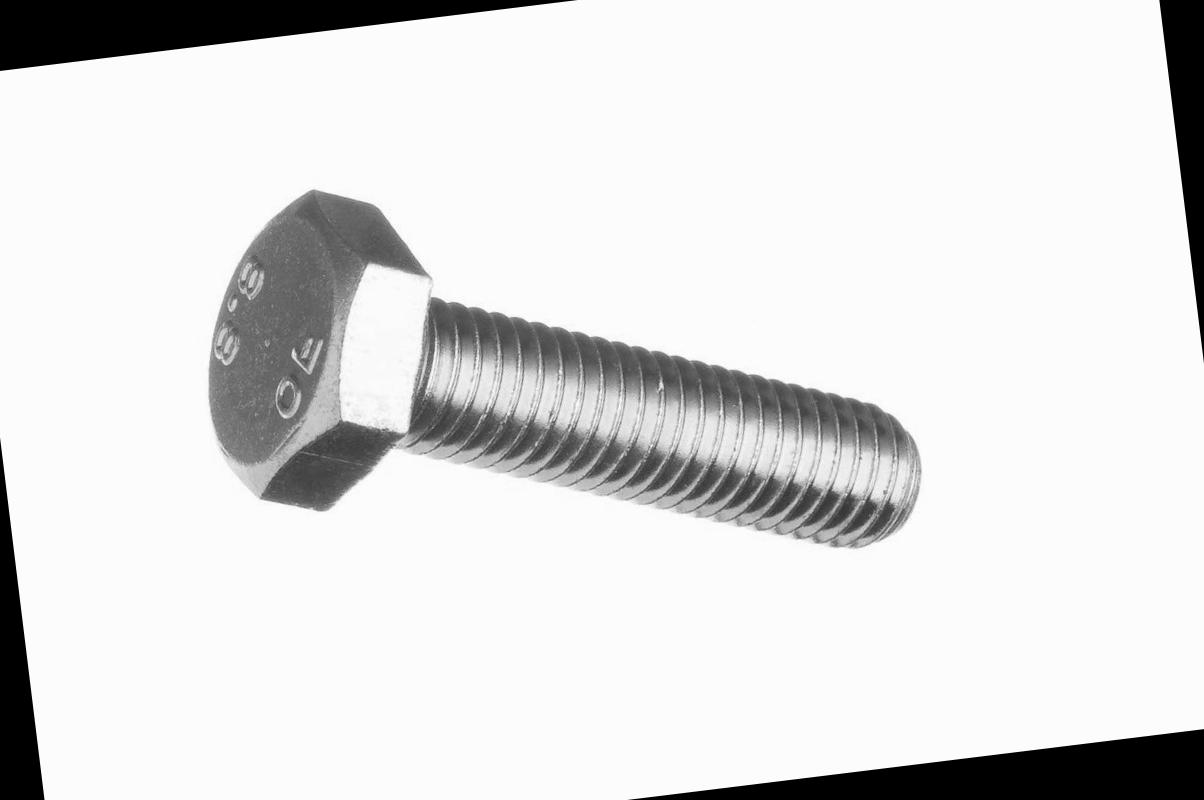hexagonal: (184, 180, 459, 524)
